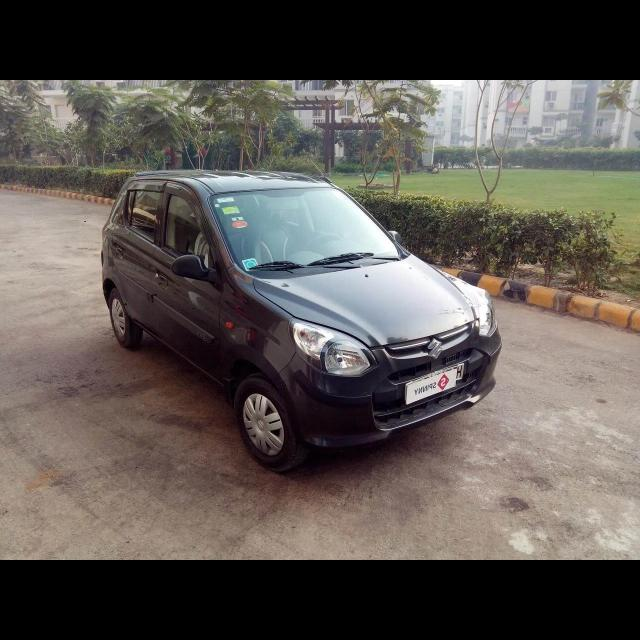vehicles: (98, 161, 506, 484)
